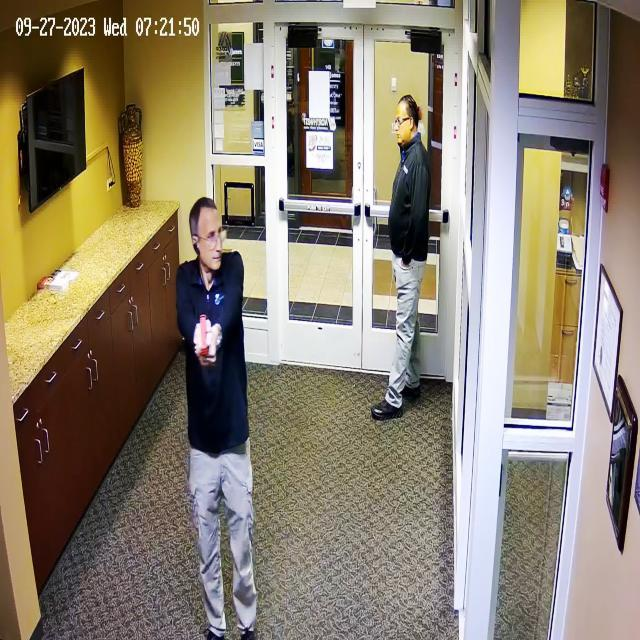Gun: (187, 314, 221, 368)
